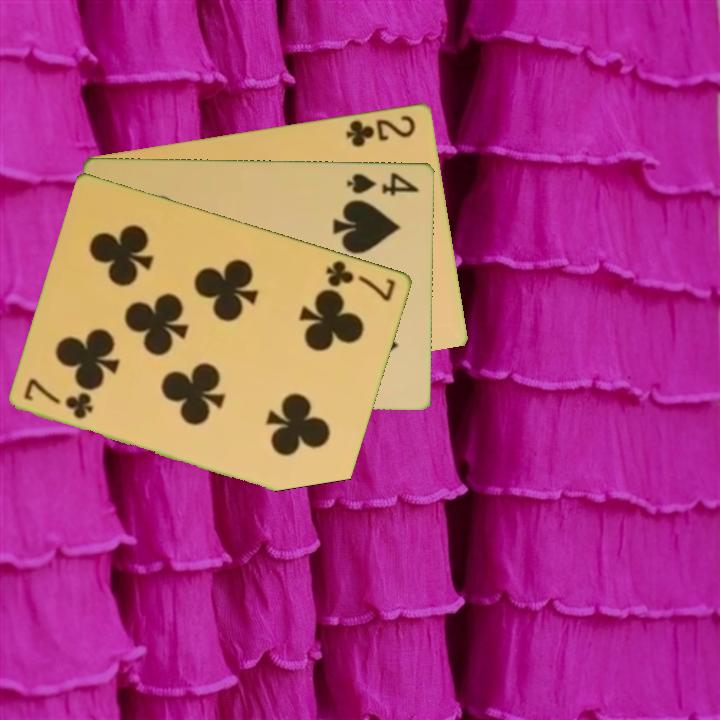2c: (342, 111, 419, 149)
4s: (344, 169, 423, 198)
7c: (323, 256, 399, 304), (21, 375, 97, 422)
